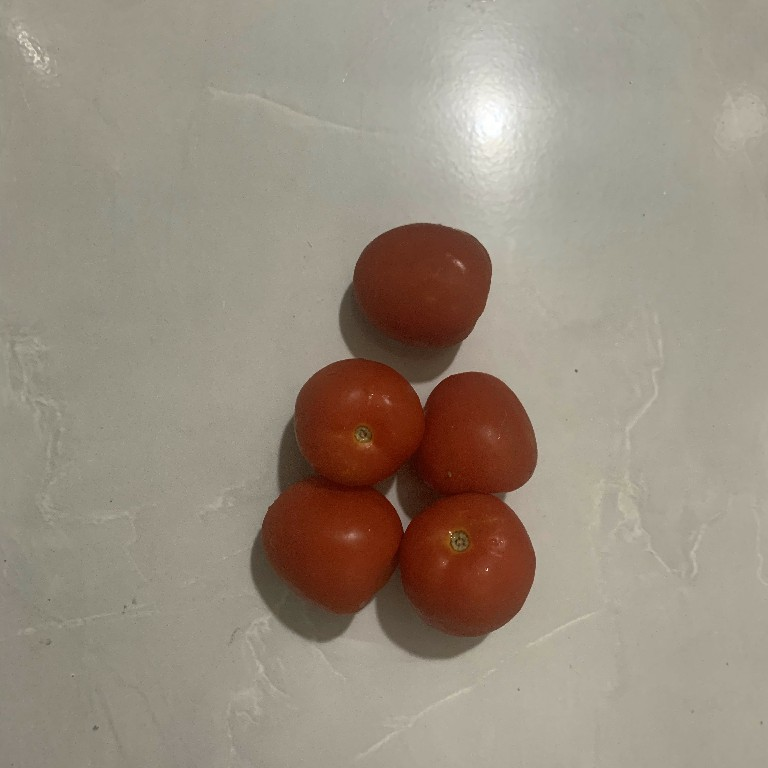OK: (350, 213, 500, 350), (259, 480, 402, 617), (401, 500, 540, 635), (292, 355, 421, 491), (424, 372, 540, 502)
